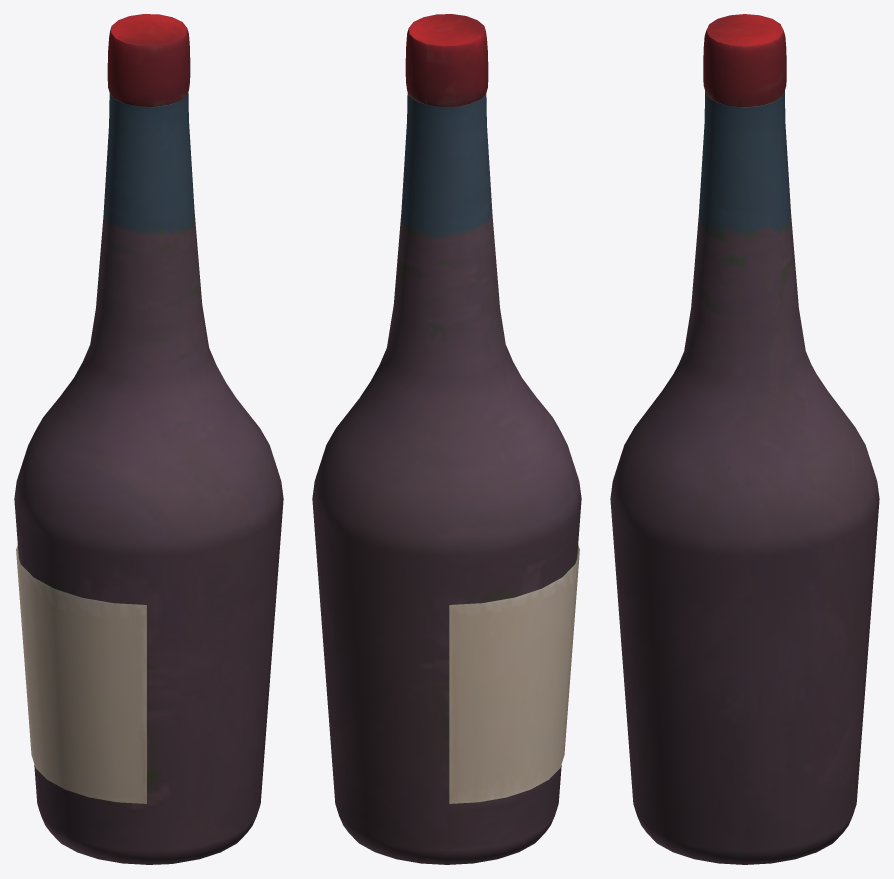
File: SM_Bottles_05.fbx
3 views of the same model, side by side, from view 1: azimuth 30°, elevation 25°; view 2: azimuth 150°, elevation 25°; view 3: azimuth 270°, elevation 25° (orthographic).
Visible parts, largest first — view 1: SM_Bottles_05_LOD0; view 2: SM_Bottles_05_LOD0; view 3: SM_Bottles_05_LOD0.
Boxes of the visible parts, left/top/right/bottom form: SM_Bottles_05_LOD0: left=14, top=14, right=283, bottom=864; SM_Bottles_05_LOD0: left=312, top=14, right=581, bottom=864; SM_Bottles_05_LOD0: left=610, top=14, right=879, bottom=864.
Size of the model in its own units: 9.2 by 9.2 by 30.07.
2 materials, 2 textured.
